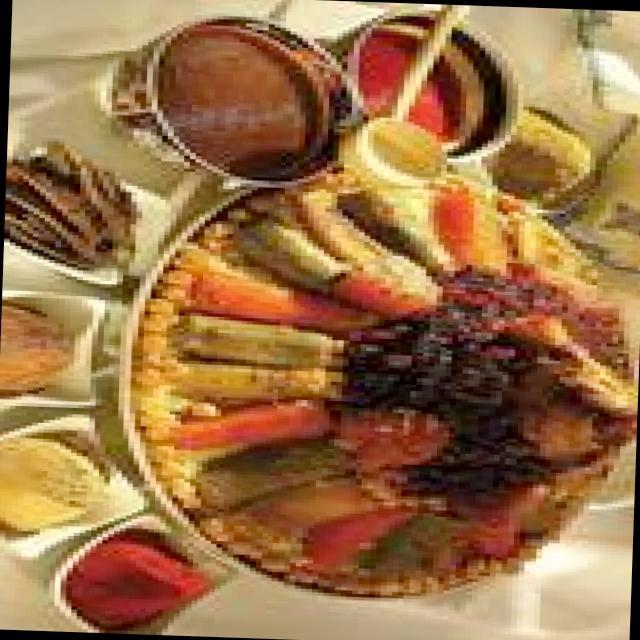Couscous: (122, 165, 640, 606)
